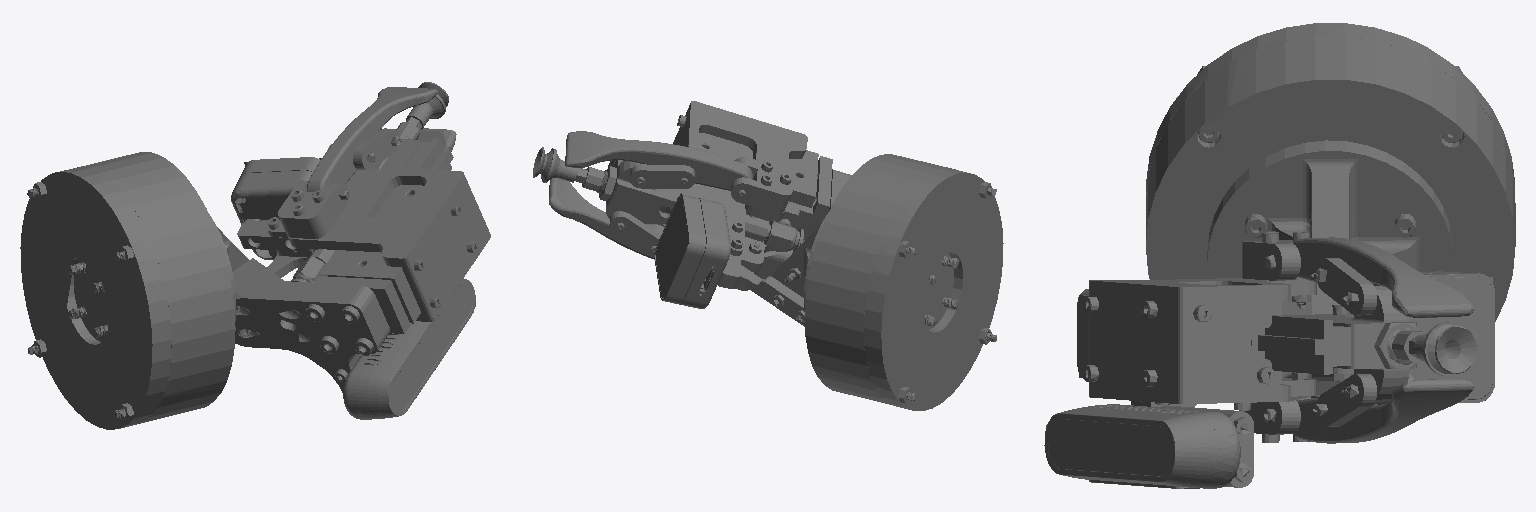
robot.urdf — lrmate200ic5l_with_sg2:
<?xml version="1.0" ?>
<!-- =================================================================================== -->
<!-- |    This document was autogenerated by xacro from fanuc200ic5l_w_sg2.xacro       | -->
<!-- |    EDITING THIS FILE BY HAND IS NOT RECOMMENDED                                 | -->
<!-- =================================================================================== -->
<robot name="lrmate200ic5l_with_sg2">
  <!-- links: main serial chain -->
  <link name="base_link">
    <visual>
      <origin rpy="0 0 0" xyz="0 0 0"/>
      <geometry>
        <mesh filename="package://fanuc_arm_config/urdf/meshes/visual/base_link.stl"/>
      </geometry>
      <material name="">
        <color rgba="0.23921568627450981 0.23921568627450981 0.23921568627450981 1.0"/>
      </material>
    </visual>
    <collision>
      <origin rpy="0 0 0" xyz="0 0 0"/>
      <geometry>
        <mesh filename="package://fanuc_arm_config/urdf/meshes/collision/base_link.stl"/>
      </geometry>
    </collision>
    <inertial>
      <origin xyz="0 0 0" rpy="0 0 0"/>
      <mass value="20.0"/>
      <inertia ixx="1.0" ixy="0.0" ixz="0.0" iyy="1.0" iyz="0.0" izz="1.0"/>
    </inertial>
  </link>
  <link name="link_1">
    <visual>
      <origin rpy="0 0 0" xyz="0 0 0"/>
      <geometry>
        <mesh filename="package://fanuc_arm_config/urdf/meshes/visual/link_1.stl"/>
      </geometry>
      <material name="">
        <color rgba="0.96 0.76 0.13 1.0"/>
      </material>
    </visual>
    <collision>
      <origin rpy="0 0 0" xyz="0 0 0"/>
      <geometry>
        <mesh filename="package://fanuc_arm_config/urdf/meshes/collision/link_1.stl"/>
      </geometry>
    </collision>
    <inertial>
      <origin xyz="0 0 0" rpy="0 0 0"/>
      <mass value="5.0"/>
      <inertia ixx="0.02" ixy="0.0" ixz="0.0" iyy="0.02" iyz="0.0" izz="0.02"/>
    </inertial>
  </link>
  <link name="link_2">
    <visual>
      <origin rpy="0 0 0" xyz="0 0 0"/>
      <geometry>
        <mesh filename="package://fanuc_arm_config/urdf/meshes/visual/link_2.stl"/>
      </geometry>
      <material name="">
        <color rgba="0.96 0.76 0.13 1.0"/>
      </material>
    </visual>
    <collision>
      <origin rpy="0 0 0" xyz="0 0 0"/>
      <geometry>
        <mesh filename="package://fanuc_arm_config/urdf/meshes/collision/link_2.stl"/>
      </geometry>
    </collision>
    <inertial>
      <origin xyz="0 0 0" rpy="0 0 0"/>
      <mass value="5.0"/>
      <inertia ixx="0.02" ixy="0.0" ixz="0.0" iyy="0.02" iyz="0.0" izz="0.02"/>
    </inertial>
  </link>
  <link name="link_3">
    <visual>
      <origin rpy="0 0 0" xyz="0 0 0"/>
      <geometry>
        <mesh filename="package://fanuc_arm_config/urdf/meshes/visual/link_3.stl"/>
      </geometry>
      <material name="">
        <color rgba="0.96 0.76 0.13 1.0"/>
      </material>
    </visual>
    <collision>
      <origin rpy="0 0 0" xyz="0 0 0"/>
      <geometry>
        <mesh filename="package://fanuc_arm_config/urdf/meshes/collision/link_3.stl"/>
      </geometry>
    </collision>
    <inertial>
      <origin xyz="0 0 0" rpy="0 0 0"/>
      <mass value="3.0"/>
      <inertia ixx="0.01" ixy="0.0" ixz="0.0" iyy="0.01" iyz="0.0" izz="0.01"/>
    </inertial>
  </link>
  <link name="link_4">
    <visual>
      <origin rpy="0 0 0" xyz="0 0 0"/>
      <geometry>
        <mesh filename="package://fanuc_arm_config/urdf/meshes/visual/link_4.stl"/>
      </geometry>
      <material name="">
        <color rgba="0.96 0.76 0.13 1.0"/>
      </material>
    </visual>
    <collision>
      <origin rpy="0 0 0" xyz="0 0 0"/>
      <geometry>
        <mesh filename="package://fanuc_arm_config/urdf/meshes/collision/link_4.stl"/>
      </geometry>
    </collision>
    <inertial>
      <origin xyz="0 0 0" rpy="0 0 0"/>
      <mass value="3.0"/>
      <inertia ixx="0.01" ixy="0.0" ixz="0.0" iyy="0.01" iyz="0.0" izz="0.01"/>
    </inertial>
  </link>
  <link name="link_5">
    <visual>
      <origin rpy="0 0 0" xyz="0 0 0"/>
      <geometry>
        <mesh filename="package://fanuc_arm_config/urdf/meshes/visual/link_5.stl"/>
      </geometry>
      <material name="">
        <color rgba="0.96 0.76 0.13 1.0"/>
      </material>
    </visual>
    <collision>
      <origin rpy="0 0 0" xyz="0 0 0"/>
      <geometry>
        <mesh filename="package://fanuc_arm_config/urdf/meshes/collision/link_5.stl"/>
      </geometry>
    </collision>
    <inertial>
      <origin xyz="0 0 0" rpy="0 0 0"/>
      <mass value="2.0"/>
      <inertia ixx="0.005" ixy="0.0" ixz="0.0" iyy="0.005" iyz="0.0" izz="0.005"/>
    </inertial>
  </link>
  <link name="link_6">
    <visual>
      <origin rpy="0 0 0" xyz="0 0 0"/>
      <geometry>
        <mesh filename="package://fanuc_arm_config/urdf/meshes/visual/link_6.stl"/>
      </geometry>
      <material name="">
        <color rgba="0.15 0.15 0.15 1.0"/>
      </material>
    </visual>
    <collision>
      <origin rpy="0 0 0" xyz="0 0 0"/>
      <geometry>
        <mesh filename="package://fanuc_arm_config/urdf/meshes/collision/link_6.stl"/>
      </geometry>
    </collision>
    <inertial>
      <origin xyz="0 0 0" rpy="0 0 0"/>
      <mass value="2.0"/>
      <inertia ixx="0.005" ixy="0.0" ixz="0.0" iyy="0.005" iyz="0.0" izz="0.005"/>
    </inertial>
  </link>
  <!-- joints: main serial chain -->
  <joint name="joint_1" type="revolute">
    <origin rpy="0 0 0" xyz="0 0 0.330"/>
    <parent link="base_link"/>
    <child link="link_1"/>
    <axis xyz="0 0 1"/>
    <limit effort="150" lower="-2.9671" upper="2.9671" velocity="4.7124"/>
  </joint>
  <joint name="joint_2" type="revolute">
    <origin rpy="0 0 0" xyz="0.075 0 0"/>
    <parent link="link_1"/>
    <child link="link_2"/>
    <axis xyz="0 1 0"/>
    <limit effort="150" lower="-1.5708" upper="2.4435" velocity="4.7124"/>
  </joint>
  <joint name="joint_3" type="revolute">
    <origin rpy="0 0 0" xyz="0 0 0.400"/>
    <parent link="link_2"/>
    <child link="link_3"/>
    <axis xyz="0 -1 0"/>
    <limit effort="150" lower="-2.5831" upper="4.0143" velocity="4.7124"/>
  </joint>
  <joint name="joint_4" type="revolute">
    <origin rpy="0 0 0" xyz="0 0 0.075"/>
    <parent link="link_3"/>
    <child link="link_4"/>
    <axis xyz="-1 0 0"/>
    <limit effort="100" lower="-3.3161" upper="3.3161" velocity="7.8540"/>
  </joint>
  <joint name="joint_5" type="revolute">
    <origin rpy="0 0 0" xyz="0.410 0 0"/>
    <parent link="link_4"/>
    <child link="link_5"/>
    <axis xyz="0 -1 0"/>
    <limit effort="100" lower="-2.0944" upper="2.0944" velocity="7.8540"/>
  </joint>
  <joint name="joint_6" type="revolute">
    <origin rpy="0 0 0" xyz="0.080 0 0"/>
    <parent link="link_5"/>
    <child link="link_6"/>
    <axis xyz="-1 0 0"/>
    <limit effort="50" lower="-6.2832" upper="6.2832" velocity="12.5664"/>
  </joint>
  
  <!-- ROS-Industrial 'flange' frame: attachment point for EEF models -->
  <link name="flange"/>
  <joint name="joint_6-flange" type="fixed">
    <origin rpy="0 0 0" xyz="0 0 0"/>
    <parent link="link_6"/>
    <child link="flange"/>
  </joint>
  <!-- ROS-Industrial 'tool0' frame: all-zeros tool frame -->
  <link name="tool0"/>
  <joint name="link_6-tool0" type="fixed">
    <origin rpy="3.141592653589793 -1.5707963267948966 0" xyz="0 0 0"/>
    <parent link="flange"/>
    <child link="tool0"/>
  </joint>
  <!-- Create a fixed joint with a parameterized name. -->
  <joint name="sg2_joint" type="fixed">
    <!-- The parent link must be read from the robot model it is attached to. -->
    <parent link="tool0"/>
    <child link="sg2"/>
    <!-- The tool is directly attached to the flange. -->
    <origin rpy="0 0 0" xyz="0 0 0"/>
  </joint>
  <link name="sg2">
    <visual>
      <geometry>
        <!-- The path to the visual meshes in the package. -->
        <mesh filename="package://fanuc_arm_config/urdf/meshes/visual/sg2_reduced.stl"/>
      </geometry>
      <material name="">
        <color rgba="0.50 0.50 0.50 1.0"/>
      </material>
    </visual>
    <collision>
      <geometry>
        <!-- The path to the collision meshes in the package. -->
        <mesh filename="package://fanuc_arm_config/urdf/meshes/collision/sg2_collision.stl"/>
      </geometry>
    </collision>
    <inertial>
      <origin xyz="0 0 0" rpy="0 0 0"/>
      <mass value="1.0"/>
      <inertia ixx="0.005" ixy="0.0" ixz="0.0" iyy="0.005" iyz="0.0" izz="0.005"/>
    </inertial>
  </link>
  <!-- TCP frame -->
  <joint name="tcp_joint" type="fixed">
    <origin rpy="0.523599 0.3926991 0" xyz="0.038715737 -0.040901752 0.200745221"/>
    <parent link="sg2"/>
    <child link="tcp"/>
  </joint>
  <link name="tcp"/>
  <!-- Tool D435 Camera frame -->
  <joint name="tool_d435_camera_joint" type="fixed">
    <origin rpy="-1.0472 0.3926991 0" xyz="-0.022037840 0.059268154 0.146839082"/>
    <parent link="sg2"/>
    <child link="tool_d435_camera"/>
  </joint>
  <link name="tool_d435_camera"/>
  <joint name="tool_d435_camera_origin_joint" type="fixed">
    <origin rpy="0 0 1.5708" xyz="0 0 0"/>
    <parent link="tool_d435_camera"/>
    <child link="tool_d435_camera_origin"/>
  </joint>
  <link name="tool_d435_camera_origin"/>
  <!-- Tool D405 Camera frame -->
  <joint name="tool_d405_camera_joint" type="fixed">
    <origin rpy="0.663225 0.3926991 0" xyz="0.004918226 -0.041728555 0.119150812"/>
    <parent link="sg2"/>
    <child link="tool_d405_camera"/>
  </joint>
  <link name="tool_d405_camera"/>
  <joint name="tool_d405_camera_origin_joint" type="fixed">
    <origin rpy="0 0 1.5708" xyz="0 0 0"/>
    <parent link="tool_d405_camera"/>
    <child link="tool_d405_camera_origin"/>
  </joint>
  <link name="tool_d405_camera_origin"/>
  <!-- force sensor frame -->
  <joint name="force_sensor_joint" type="fixed">
    <origin rpy="0 0 0" xyz="0 0 0.02125"/>
    <parent link="sg2"/>
    <child link="force_sensor"/>
  </joint>
  <link name="force_sensor"/>
  <joint name="force_sensor_origin_joint" type="fixed">
    <origin rpy="0 0 1.5708" xyz="0 0 0"/>
    <parent link="force_sensor"/>
    <child link="force_sensor_origin"/>
  </joint>
  <link name="force_sensor_origin"/>
  
</robot>

--- Render facts (derived) ---
3 views of the same robot in one strip: view 1: azimuth 30°, elevation 25°; view 2: azimuth 150°, elevation 25°; view 3: azimuth 270°, elevation 25° (orthographic).
Robot: lrmate200ic5l_with_sg2 — 17 links, 16 joints (6 revolute, 10 fixed); root link base_link; default pose: every joint at zero.
Visible links, largest first — view 1: sg2; view 2: sg2; view 3: sg2.
Link boxes in pixels (box(x1,y1,x2,y2)): sg2: box(20, 82, 490, 429); sg2: box(533, 101, 1003, 410); sg2: box(1044, 23, 1515, 488).
Bounding box of the posed robot: 0.218 × 0.1528 × 0.12 m (x, y, z).
1 mesh visuals loaded from 8 distinct referenced files (1 binary STL); not drawn: 7 (reference not matched to a file when rendering).